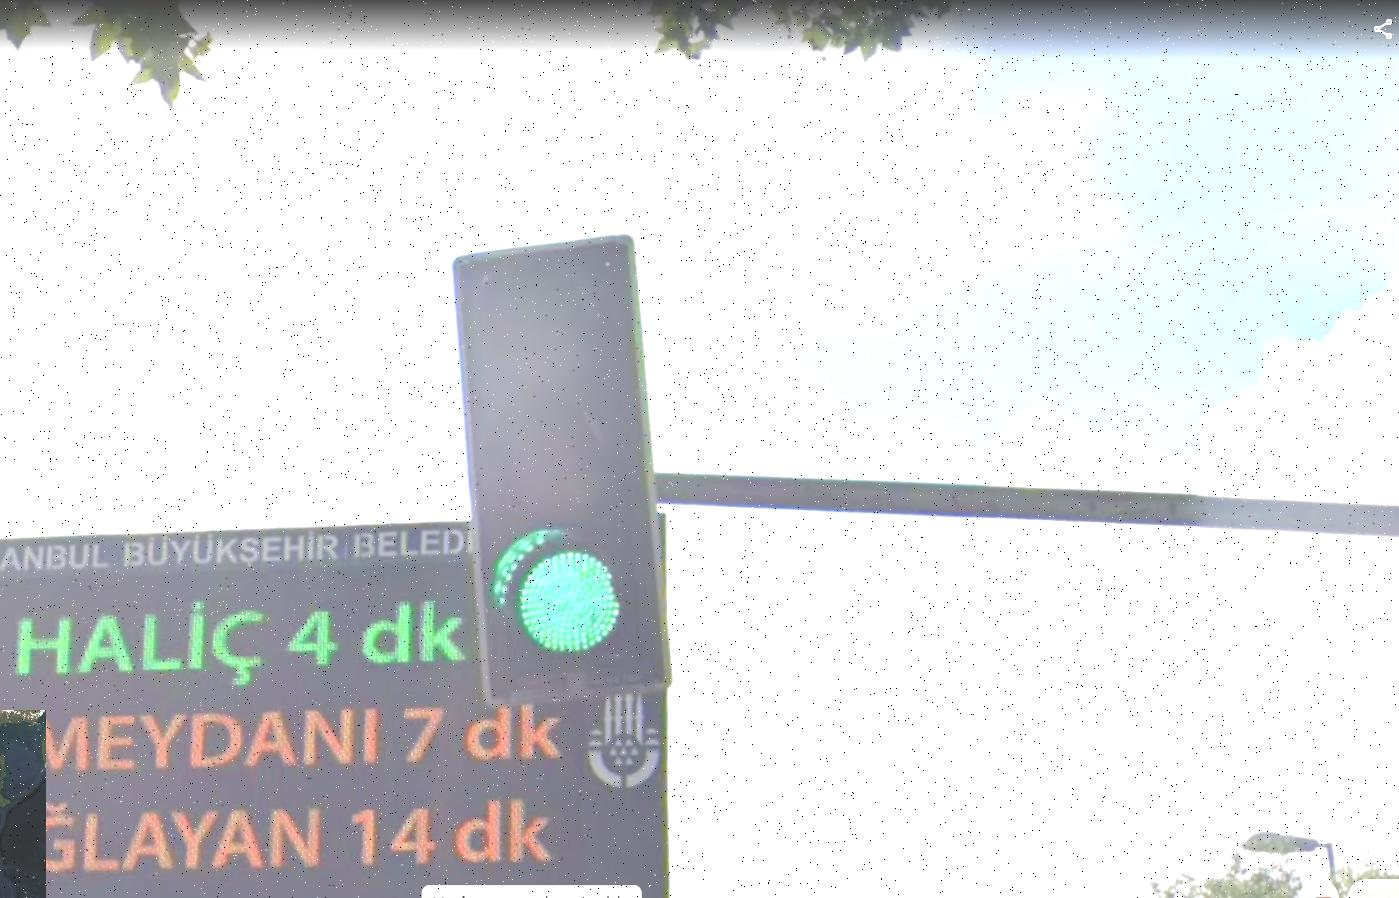greenlight: (461, 251, 664, 670)
